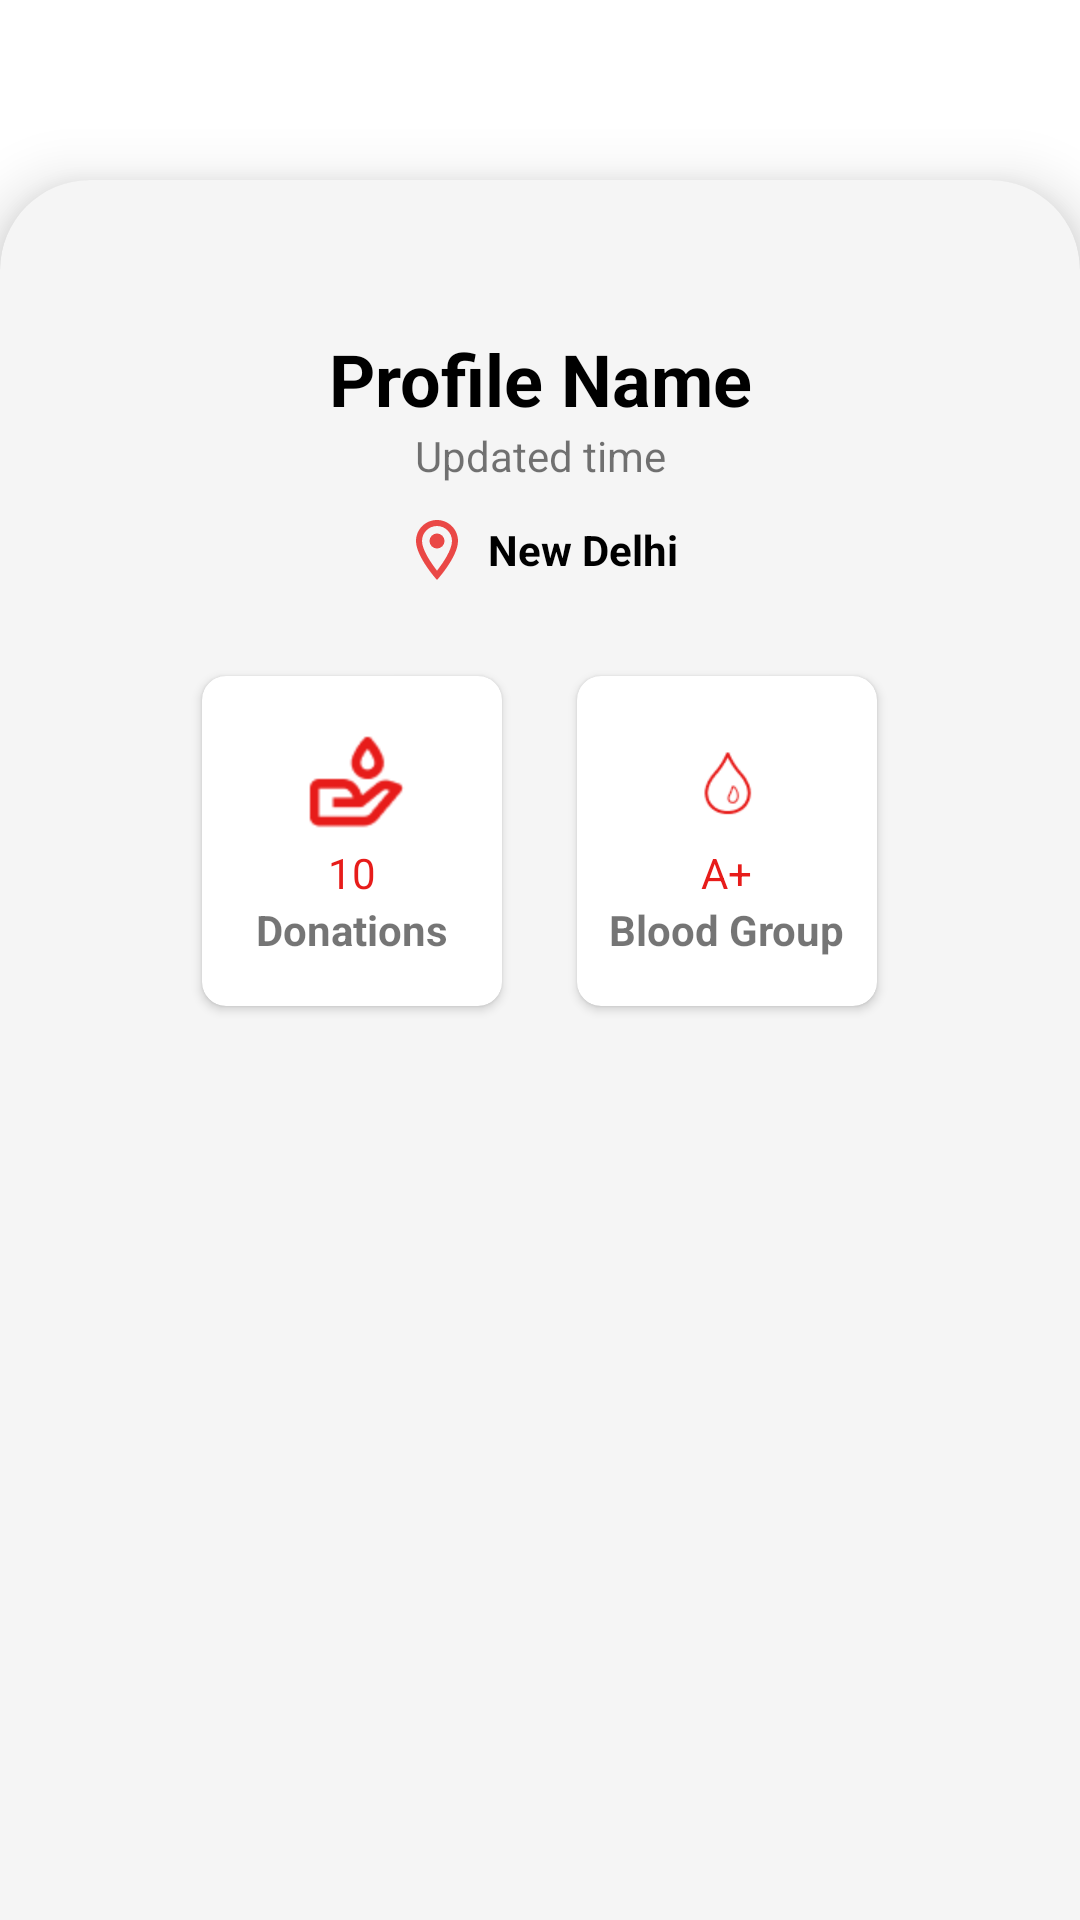

Screen size 1080×1920. Icon name, then its box in pixels as (x1, y1, x2, y2):
don hand: (309, 736, 403, 828)
location: (416, 520, 458, 580)
